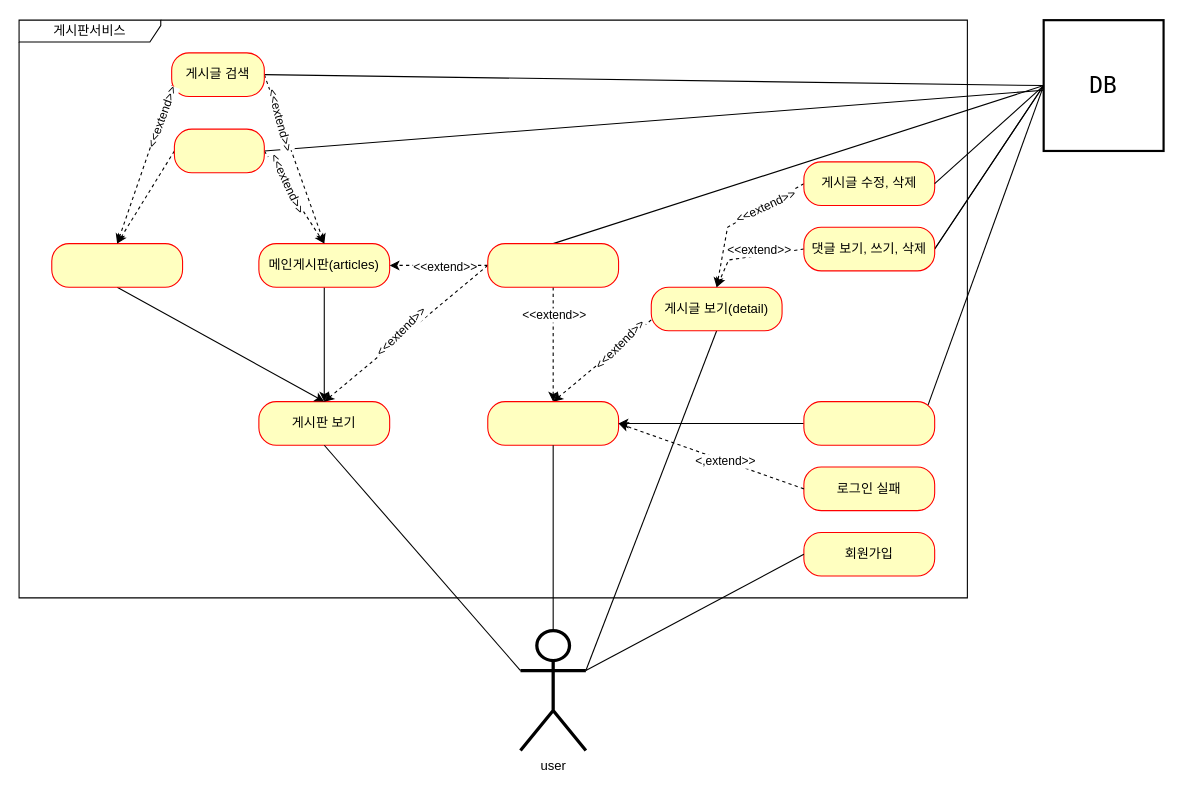
The diagram is 1184 pixels wide and 791 high, and some of its shapes have lost their labels. Each missing label, with the box of its shape:
게시글 쓰기: (487, 243, 619, 287)
게시판 정렬: (173, 128, 264, 173)
인증: (803, 401, 935, 445)
해시태그 게시판: (51, 243, 183, 287)
회원 로그인: (487, 401, 619, 445)
